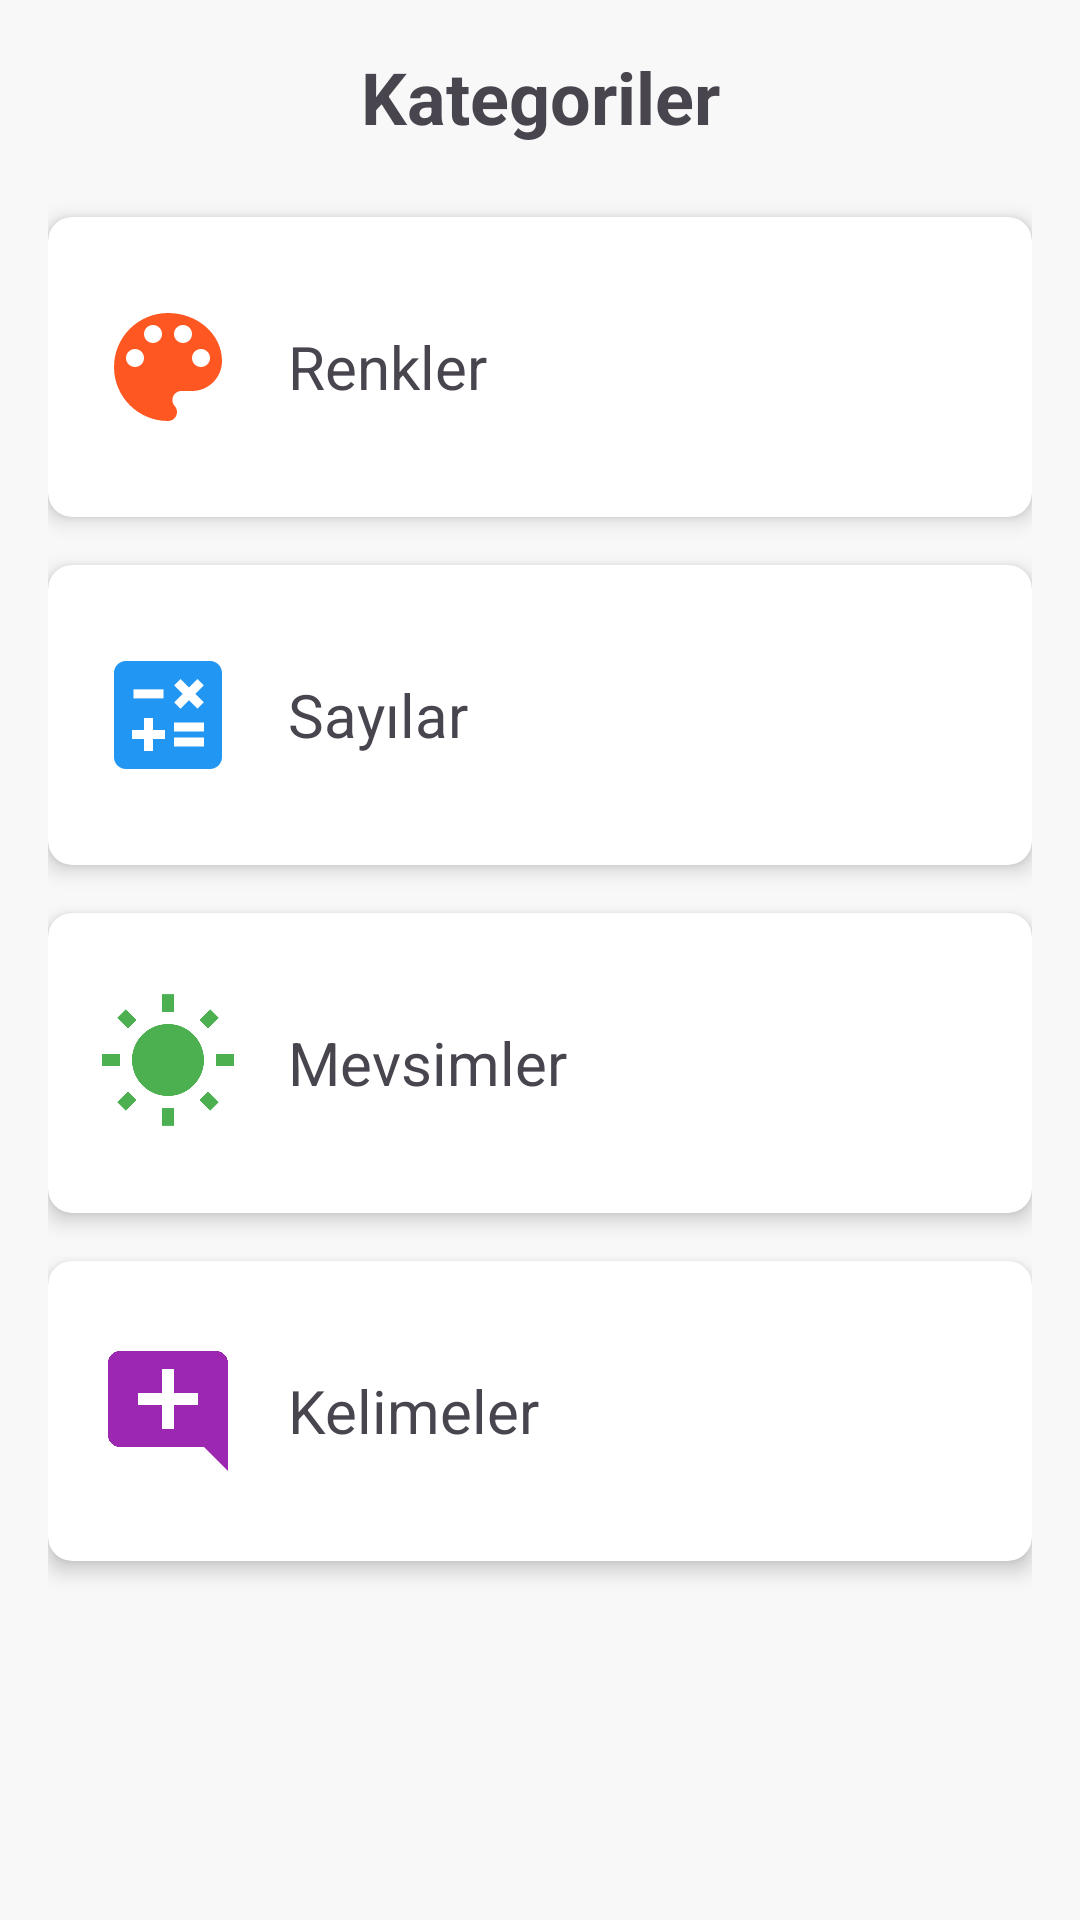

Named icons in this screenshot (1080 × 1920) and their bounding boxes, (x1, y1, x2, y2):
category colors: (114, 313, 222, 421)
category numbers: (114, 661, 222, 769)
category seasons: (102, 994, 234, 1126)
category words: (108, 1351, 228, 1471)
